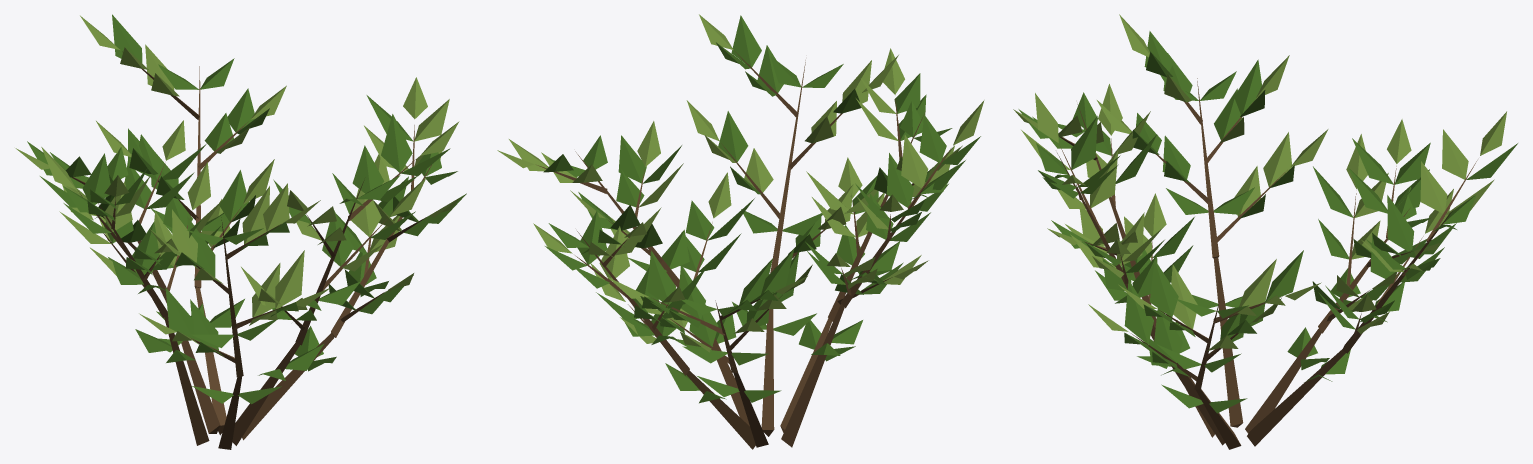
Rendered from bush-5.glb.
The picture shows the model from 3 angles, left to right: view 1: azimuth 30°, elevation 25°; view 2: azimuth 150°, elevation 25°; view 3: azimuth 270°, elevation 25°; orthographic projection. The views are drawn at different scales.
Visible parts, largest first — view 1: bush-5-lod0; view 2: bush-5-lod0; view 3: bush-5-lod0.
Boxes of the visible parts, x1,y1,x2,y2 form: bush-5-lod0: (15, 14, 466, 449); bush-5-lod0: (497, 14, 984, 449); bush-5-lod0: (1013, 14, 1517, 449).
Bounding box in the file's own units: 3.02 × 2.4 × 3.14.
